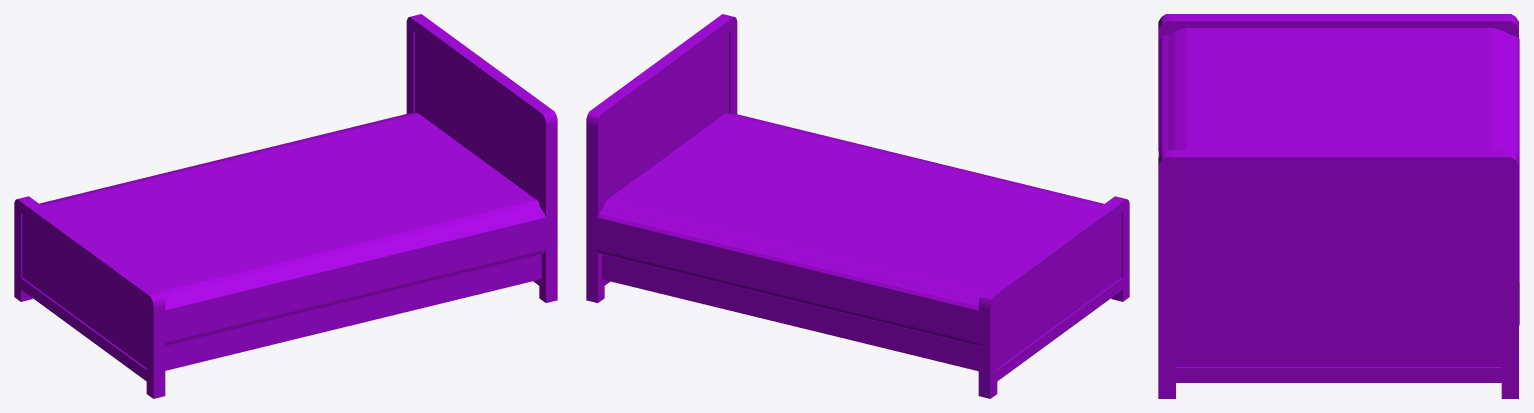
File: sm_bed_triangulate_maya.fbx
3 views of the same model, side by side, from view 1: azimuth 30°, elevation 25°; view 2: azimuth 150°, elevation 25°; view 3: azimuth 270°, elevation 25° (orthographic). The views are drawn at different scales.
Visible parts, largest first — view 1: polySurface52; view 2: polySurface52; view 3: polySurface52.
Part boxes in pixels (x1,y1,x2,y2): polySurface52: [14, 14, 557, 398]; polySurface52: [586, 14, 1129, 398]; polySurface52: [1158, 14, 1519, 398].
Bounding box in the file's own units: 1175 × 518 × 702.
